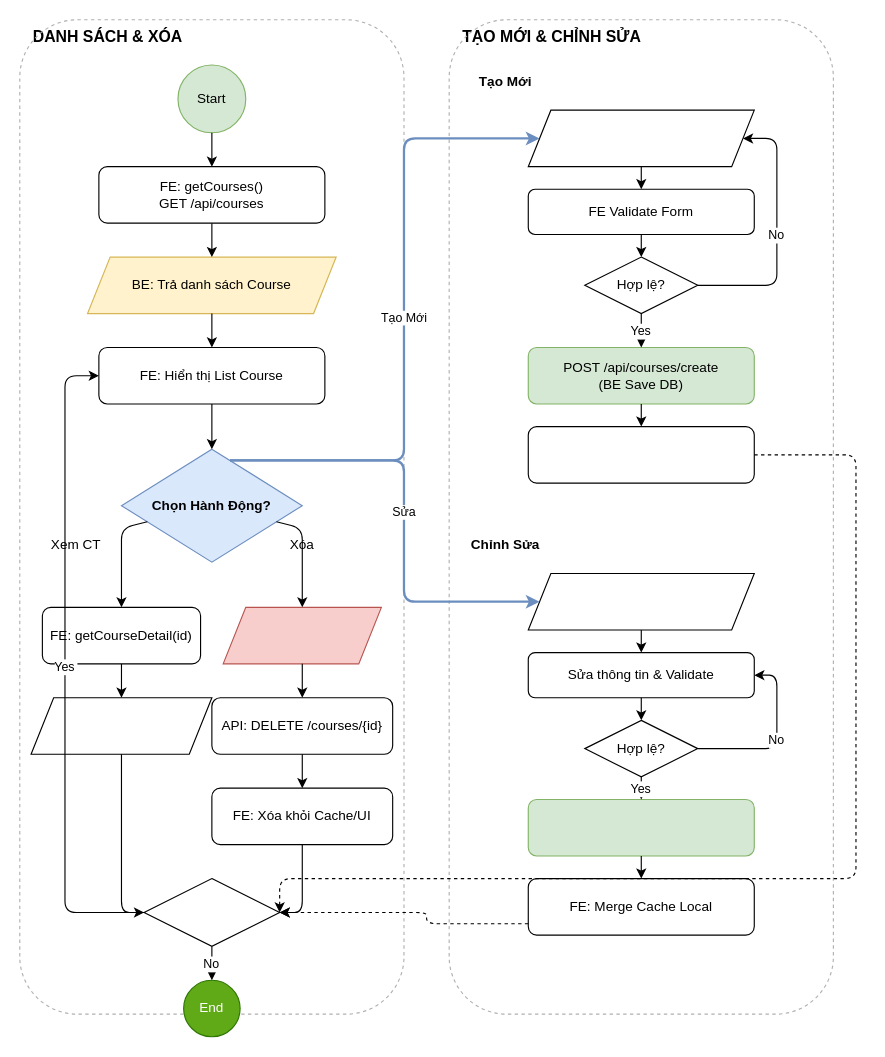
The diagram is 885 pixels wide and 1057 high, and some of its shapes have lost their labels. The box of each missing label's shape, as (x1, y1, x2, y2) in pixels:
Chọn Course & Pre-fill Form: (527, 572, 754, 630)
Confirm Delete?: (222, 606, 381, 664)
FE: Update List & Cache: (527, 425, 754, 483)
Hiển thị: Sections, Lessons...: (30, 697, 212, 754)
Nhập Form Tạo Mới (Code, Title, Price...): (527, 109, 754, 167)
PUT /api/courses/{id} (BE Update DB): (527, 798, 754, 856)
Tiếp tục?: (143, 877, 280, 946)
